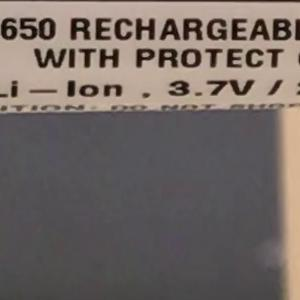3.7V: (158, 69, 265, 106)
